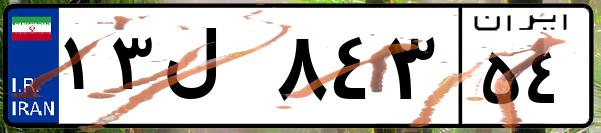1: (57, 26, 110, 100)
3: (385, 28, 445, 110), (110, 28, 158, 98)
4: (330, 28, 385, 110), (525, 38, 570, 115)
5: (475, 38, 525, 113)
8: (270, 28, 330, 110)
ل: (158, 20, 270, 120)
